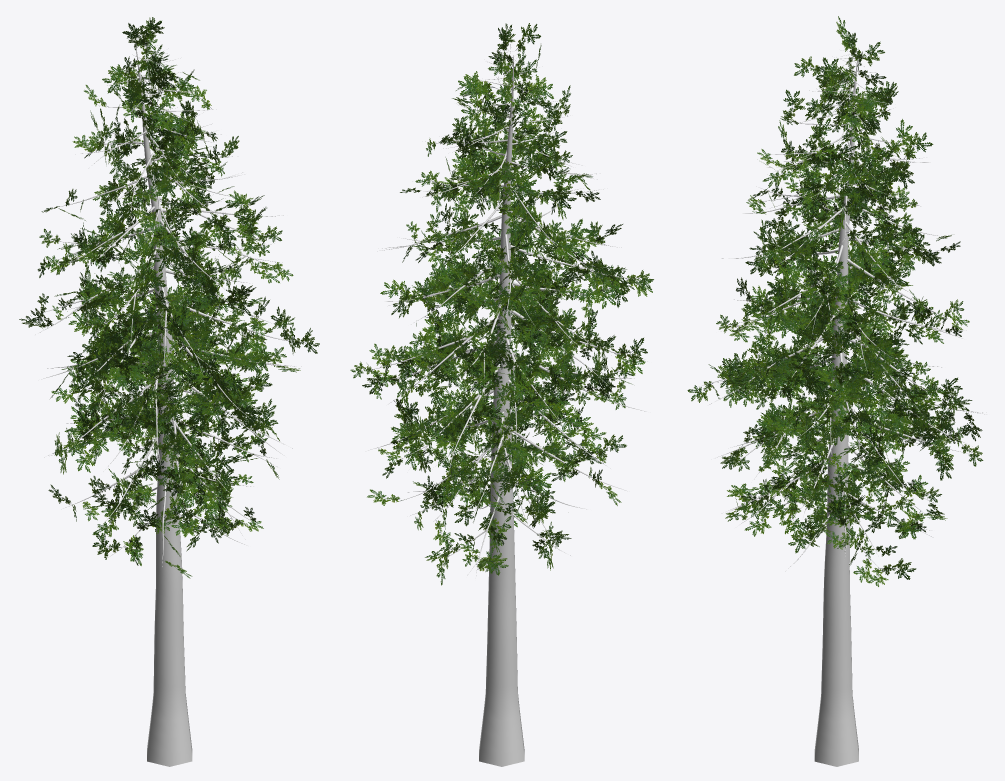
Rendered from boom klein.fbx.
3 renders of one model, left to right at view 1: azimuth 30°, elevation 25°; view 2: azimuth 150°, elevation 25°; view 3: azimuth 270°, elevation 25°, orthographic. The views are drawn at different scales.
Parts seen in each view (by area): view 1: Plane.003, tree.005; view 2: Plane.003, tree.005; view 3: Plane.003, tree.005.
Boxes of the visible parts, bbox=[...] form: Plane.003: bbox=[19, 17, 319, 578]; tree.005: bbox=[36, 36, 305, 766]; Plane.003: bbox=[350, 23, 653, 585]; tree.005: bbox=[367, 42, 647, 766]; Plane.003: bbox=[687, 16, 983, 586]; tree.005: bbox=[699, 45, 986, 766].
Bounding box in the file's own units: 31.48 × 86.4 × 32.91.
